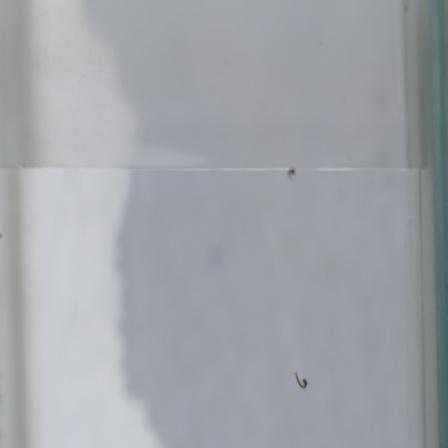Jentik-Nyamuk: (293, 368, 309, 391)
